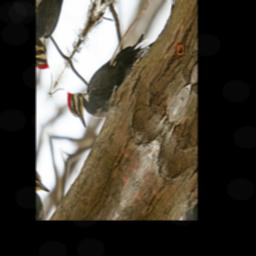Woodpecker: (61, 0, 156, 147)
